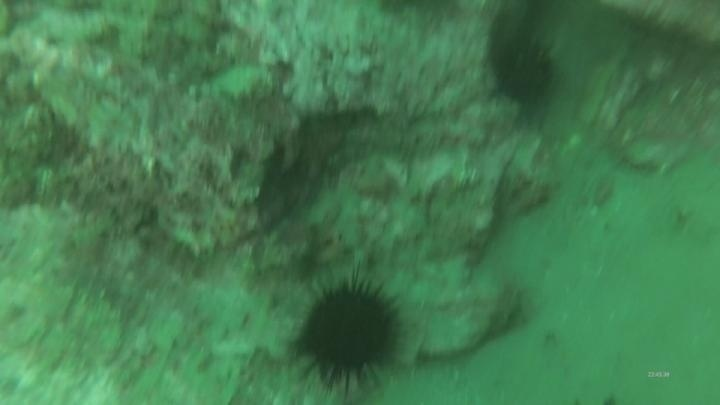echinus: (289, 271, 409, 395), (485, 28, 562, 112)
